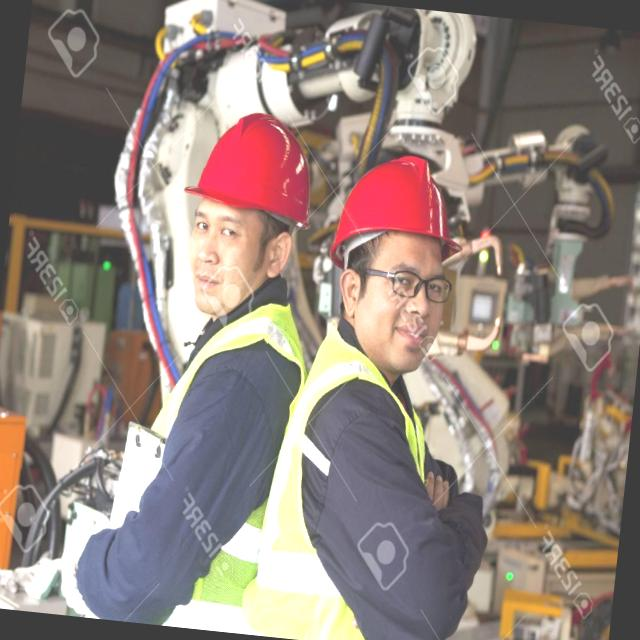helmet: (323, 142, 476, 278), (172, 103, 321, 240)
